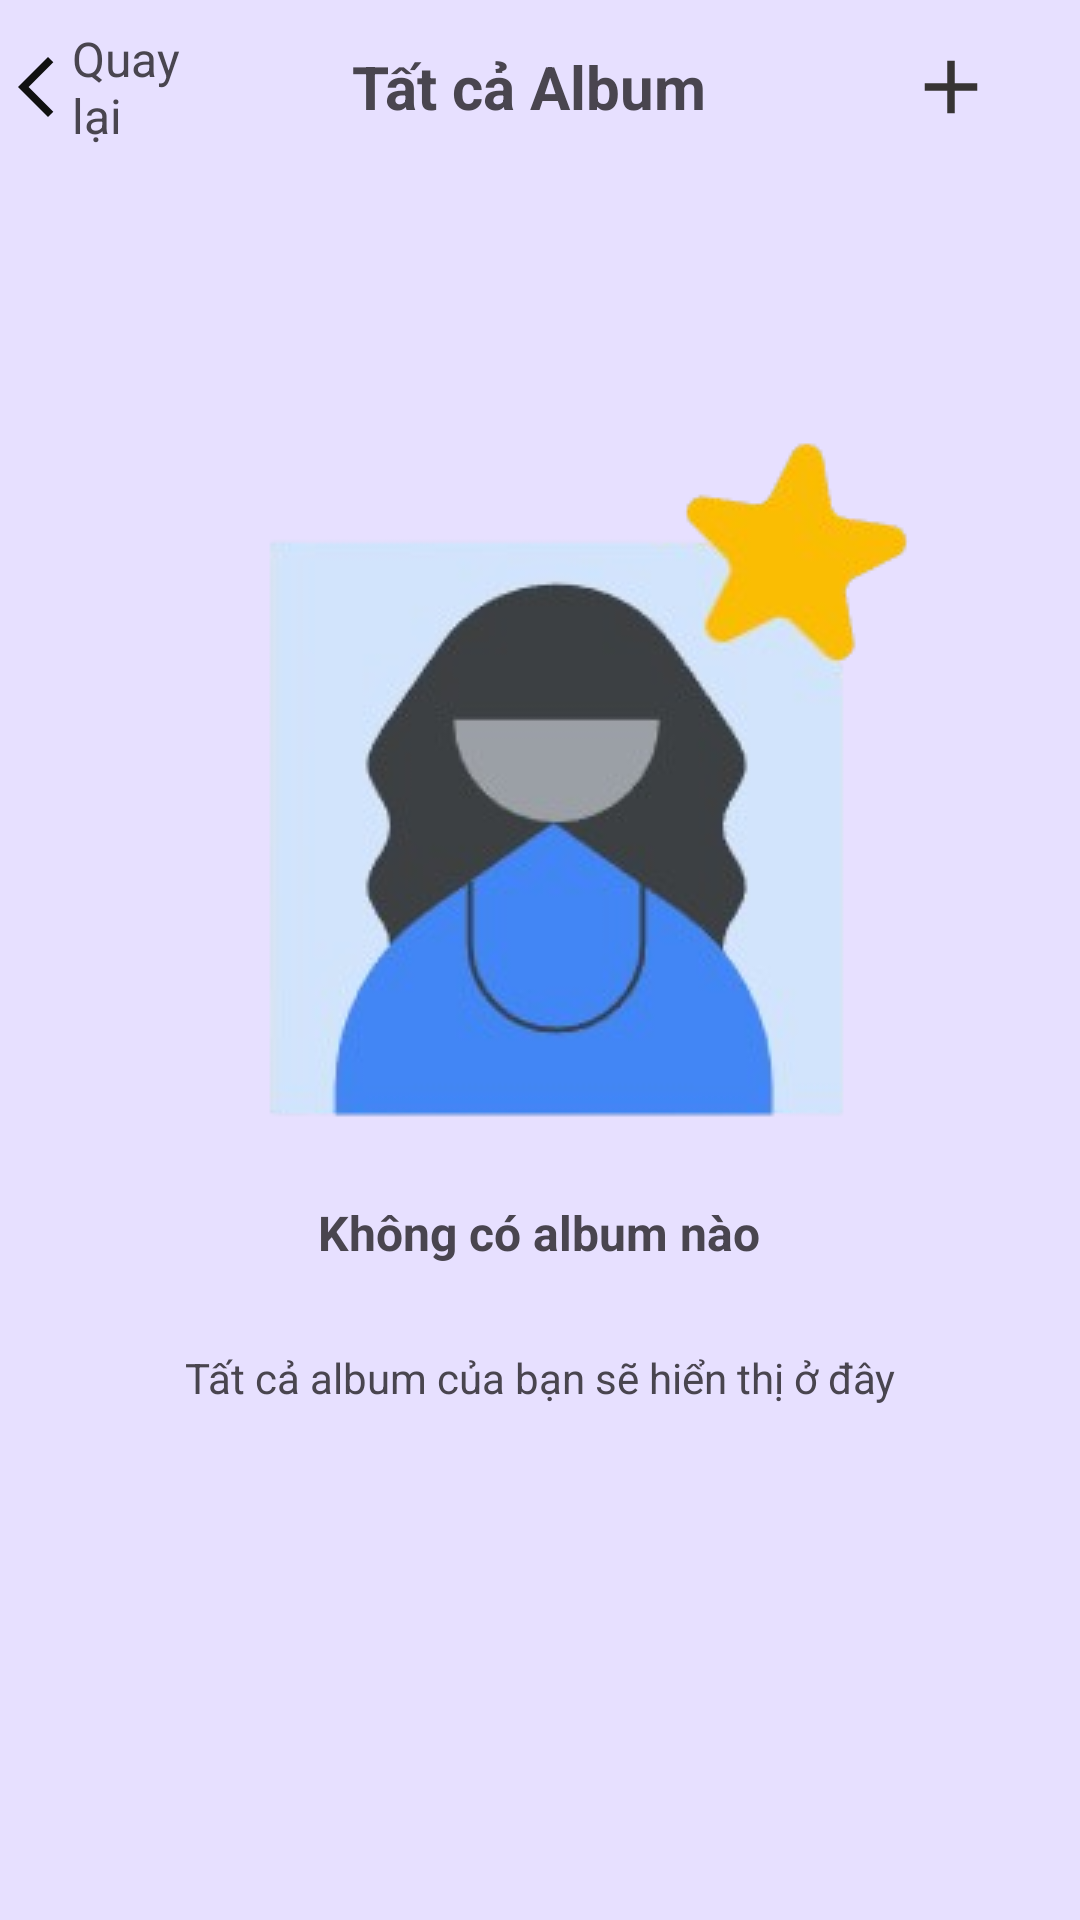

Icons on this 1080*1920 Android screen, each with the point to tap as (x,y):
add: (951,87)
